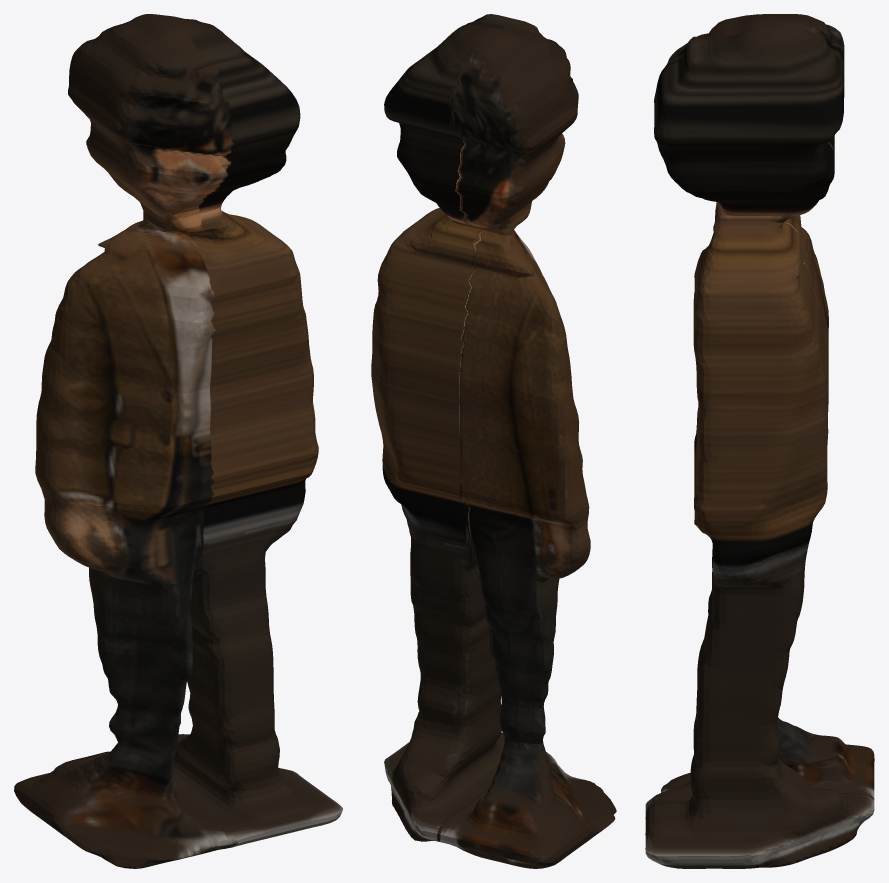
Rendered from professor_z_initial_visual_hull_source.glb.
3 views of the same model, side by side, from view 1: azimuth 30°, elevation 25°; view 2: azimuth 150°, elevation 25°; view 3: azimuth 270°, elevation 25° (orthographic).
Parts seen in each view (by area): view 1: world; view 2: world; view 3: world.
Part boxes in pixels (x1,y1,x2,y2): world: (14, 14, 342, 868); world: (371, 14, 616, 868); world: (645, 14, 874, 868).
Size of the model in its own units: 0.4537 by 1.52 by 0.3922.
Materials: 1 (1 with a texture image).
